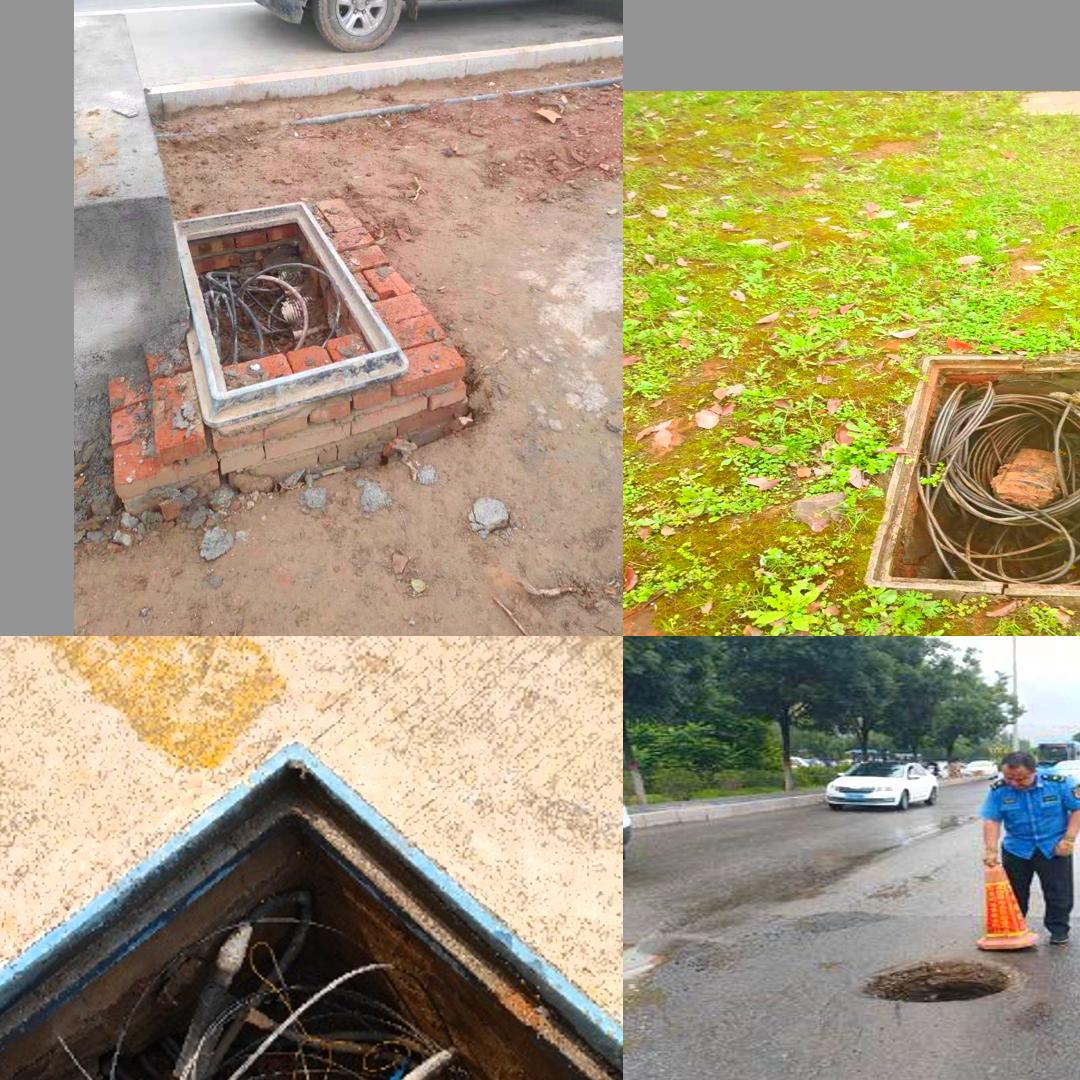lose: (0, 743, 620, 1080), (171, 197, 414, 437), (862, 353, 1080, 597), (831, 947, 1035, 1012)
